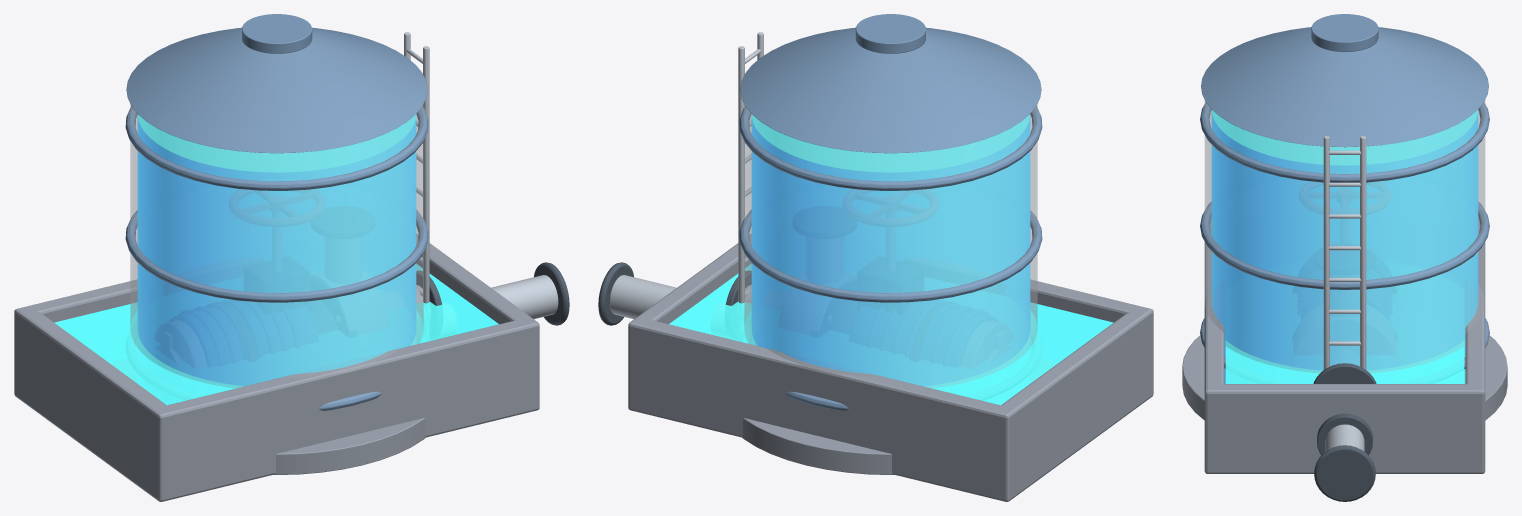
File: equipment.glb
3 renders of one model, left to right at view 1: azimuth 30°, elevation 25°; view 2: azimuth 150°, elevation 25°; view 3: azimuth 270°, elevation 25°, orthographic. The views are drawn at different scales.
Visible parts, largest first — view 1: Tank_Body, Tank_Water, Reservoir_Body, Reservoir_Water; view 2: Tank_Body, Tank_Water, Reservoir_Body, Reservoir_Water; view 3: Tank_Body, Tank_Water, Reservoir_Body, Reservoir_Water, Pump_Body.
Part boxes in pixels (box(x1,y1,x2,y2)): Tank_Body: box(125, 14, 429, 474); Tank_Water: box(137, 114, 416, 386); Reservoir_Body: box(14, 233, 569, 501); Reservoir_Water: box(54, 264, 498, 405); Tank_Body: box(738, 14, 1042, 474); Tank_Water: box(751, 114, 1030, 386); Reservoir_Body: box(598, 233, 1153, 501); Reservoir_Water: box(669, 264, 1113, 405); Tank_Body: box(1182, 14, 1507, 455); Tank_Water: box(1211, 110, 1478, 383); Reservoir_Body: box(1204, 218, 1485, 501); Reservoir_Water: box(1225, 340, 1464, 383); Pump_Body: box(1313, 363, 1376, 383).
Bounding box in the file's own units: 3.69 × 2.82 × 2.32.
